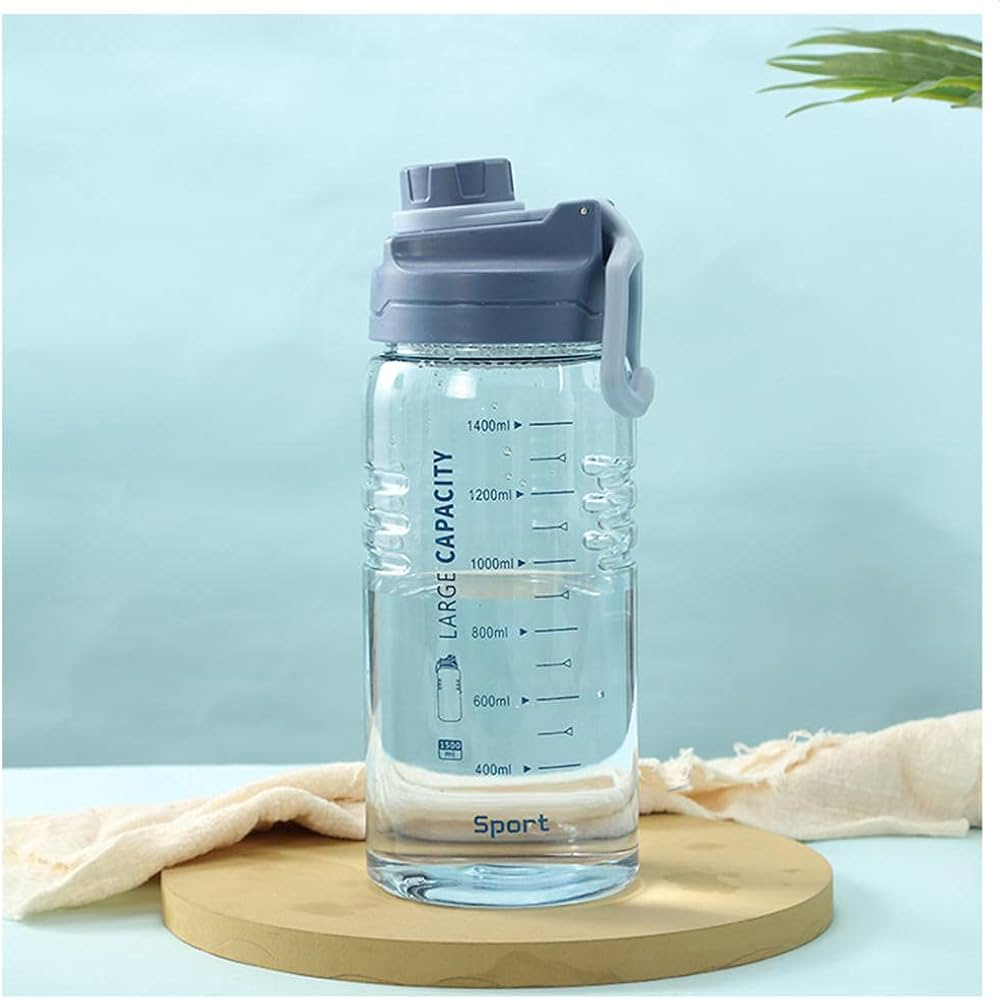bottle: (360, 157, 654, 915)
